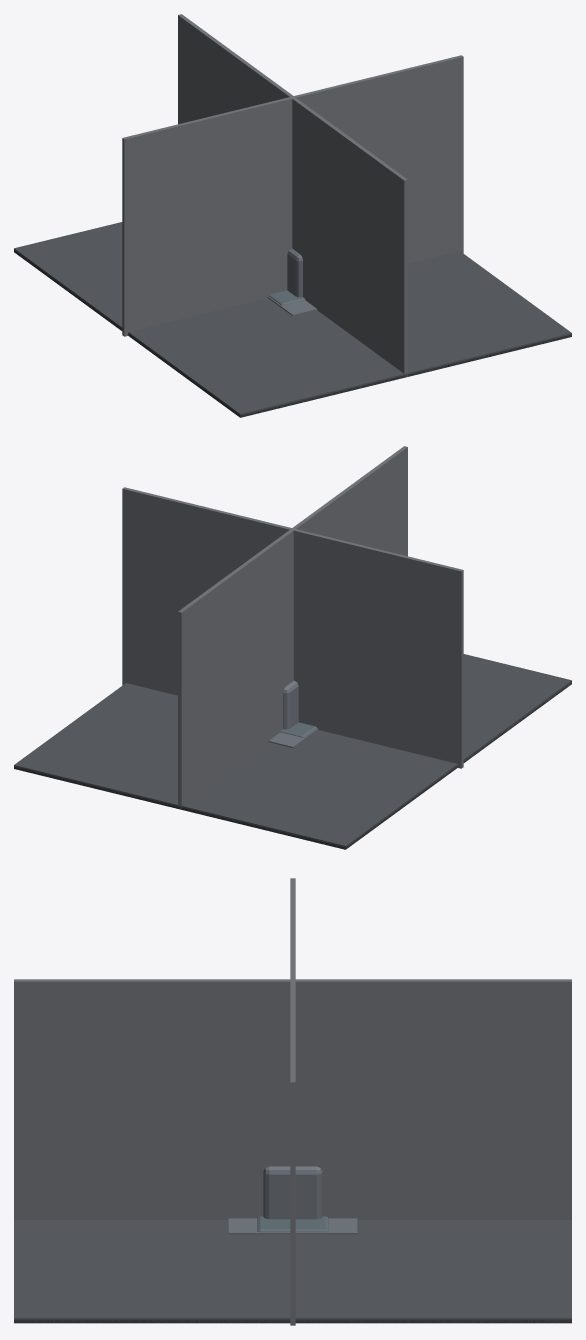
Rendered from room.fbx.
The picture shows the model from 3 angles, top to bottom: view 1: azimuth 30°, elevation 25°; view 2: azimuth 150°, elevation 25°; view 3: azimuth 270°, elevation 25°; orthographic projection. The views are drawn at different scales.
Parts seen in each view (by area): view 1: RoomR1_WallY-2.625_Runtime, RoomR1_Floor_Runtime, RoomR1_WallMinusX_Runtime, RoomR1_WindowWall_foot_Runtime, RoomR1_WindowWall_below_Runtime, RoomR1_Ceiling_Runtime, RoomR1_FoldedFutonBack_Runtime, RoomR1_WindowWall_above_Runtime; view 2: RoomR1_WallY-2.625_Runtime, RoomR1_Floor_Runtime, RoomR1_WallMinusX_Runtime, RoomR1_WindowWall_foot_Runtime, RoomR1_WindowWall_above_Runtime, RoomR1_Ceiling_Runtime, RoomR1_WindowWall_below_Runtime, RoomR1_FoldedFutonBack_Runtime; view 3: RoomR1_WallMinusX_Runtime, RoomR1_Floor_Runtime, RoomR1_WindowWall_above_Runtime, RoomR1_WindowWall_foot_Runtime, RoomR1_FoldedFutonBack_Runtime, RoomR1_WallY-2.625_Runtime, RoomR1_Ceiling_Runtime, RoomR1_WindowWall_head_Runtime, RoomR1_BabyMattress_Runtime, RoomR1_WindowWall_below_Runtime, RoomR1_BabyQuilt_Runtime.
Part boxes in pixels (x1=…): RoomR1_WallY-2.625_Runtime: x1=122, y1=55, x2=463, y2=336; RoomR1_Floor_Runtime: x1=14, y1=222, x2=571, y2=417; RoomR1_WallMinusX_Runtime: x1=178, y1=14, x2=407, y2=377; RoomR1_WindowWall_foot_Runtime: x1=292, y1=194, x2=335, y2=323; RoomR1_WindowWall_below_Runtime: x1=294, y1=249, x2=407, y2=372; RoomR1_Ceiling_Runtime: x1=14, y1=250, x2=571, y2=417; RoomR1_FoldedFutonBack_Runtime: x1=287, y1=248, x2=302, y2=297; RoomR1_WindowWall_above_Runtime: x1=303, y1=290, x2=407, y2=371; RoomR1_WallY-2.625_Runtime: x1=122, y1=487, x2=463, y2=768; RoomR1_Floor_Runtime: x1=14, y1=654, x2=571, y2=849; RoomR1_WallMinusX_Runtime: x1=178, y1=446, x2=407, y2=809; RoomR1_WindowWall_foot_Runtime: x1=250, y1=628, x2=293, y2=755; RoomR1_WindowWall_above_Runtime: x1=178, y1=709, x2=282, y2=806; RoomR1_Ceiling_Runtime: x1=14, y1=682, x2=571, y2=849; RoomR1_WindowWall_below_Runtime: x1=178, y1=661, x2=293, y2=806; RoomR1_FoldedFutonBack_Runtime: x1=283, y1=680, x2=298, y2=729; RoomR1_WallMinusX_Runtime: x1=14, y1=979, x2=571, y2=1219; RoomR1_Floor_Runtime: x1=14, y1=1220, x2=571, y2=1323; RoomR1_WindowWall_above_Runtime: x1=14, y1=1190, x2=571, y2=1219; RoomR1_WindowWall_foot_Runtime: x1=183, y1=1098, x2=402, y2=1219; RoomR1_FoldedFutonBack_Runtime: x1=263, y1=1166, x2=322, y2=1219; RoomR1_WallY-2.625_Runtime: x1=290, y1=878, x2=295, y2=1325; RoomR1_Ceiling_Runtime: x1=14, y1=1320, x2=571, y2=1323; RoomR1_WindowWall_head_Runtime: x1=289, y1=1098, x2=370, y2=1219; RoomR1_BabyMattress_Runtime: x1=228, y1=1218, x2=357, y2=1234; RoomR1_WindowWall_below_Runtime: x1=16, y1=1159, x2=571, y2=1219; RoomR1_BabyQuilt_Runtime: x1=257, y1=1216, x2=328, y2=1232.
Size of the model in its own units: 450 by 250 by 520.
Materials: 8 (1 with a texture image).
